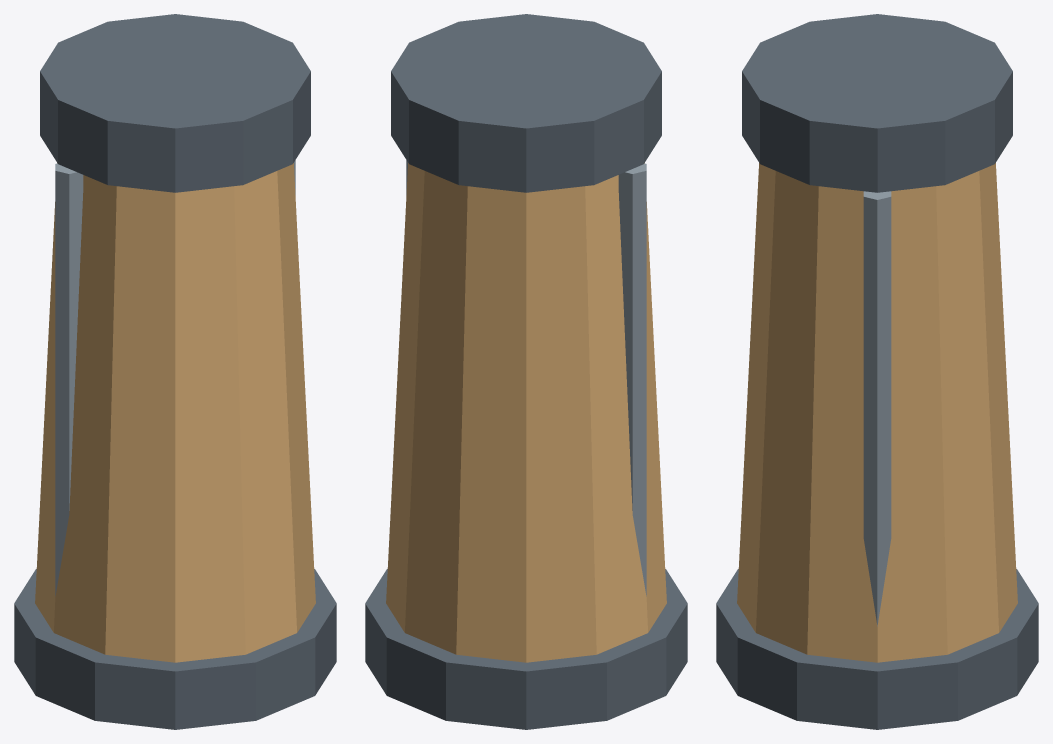
File: brazo_segmento.glb
3 views of the same model, side by side, from view 1: azimuth 30°, elevation 25°; view 2: azimuth 150°, elevation 25°; view 3: azimuth 270°, elevation 25° (orthographic).
Visible parts, largest first — view 1: brazo_segmento; view 2: brazo_segmento; view 3: brazo_segmento.
Boxes of the visible parts, x1=… form: brazo_segmento: x1=14, y1=14, x2=336, y2=729; brazo_segmento: x1=365, y1=14, x2=687, y2=729; brazo_segmento: x1=716, y1=14, x2=1038, y2=729.
Size of the model in its own units: 0.5 by 1.01 by 0.5.
